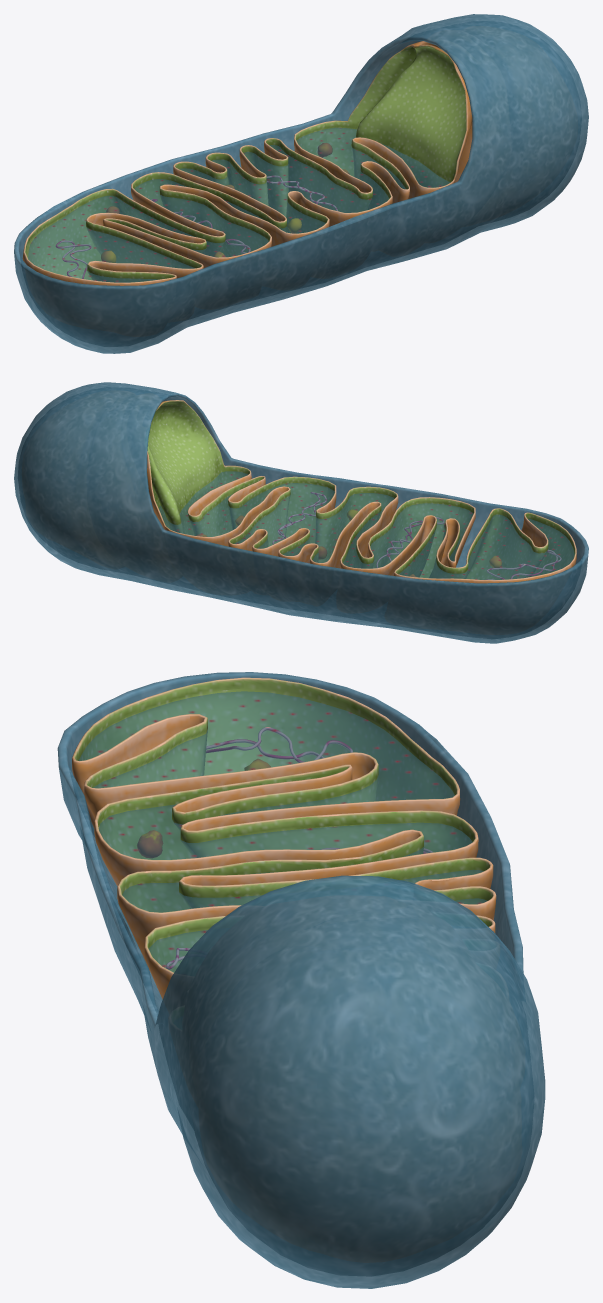
Rendered from mitochondria.glb.
The picture shows the model from 3 angles, top to bottom: view 1: azimuth 30°, elevation 25°; view 2: azimuth 150°, elevation 25°; view 3: azimuth 270°, elevation 25°; orthographic projection. The views are drawn at different scales.
Parts seen in each view (by area): view 1: shell, cristae, matrix; view 2: shell, cristae, matrix, dna_01; view 3: shell, cristae, matrix, dna_01.
Part boxes in pixels (x1=…): shell: x1=14, y1=14, x2=588, y2=353; cristae: x1=22, y1=41, x2=472, y2=285; matrix: x1=28, y1=127, x2=450, y2=282; shell: x1=14, y1=382, x2=588, y2=643; cristae: x1=147, y1=400, x2=576, y2=583; matrix: x1=159, y1=471, x2=574, y2=580; dna_01: x1=486, y1=549, x2=561, y2=580; shell: x1=57, y1=672, x2=545, y2=1288; cristae: x1=72, y1=677, x2=496, y2=999; matrix: x1=79, y1=691, x2=486, y2=972; dna_01: x1=206, y1=727, x2=352, y2=762.
Bounding box in the file's own units: 187 × 62.12 × 75.56.
1 material, 1 textured.
